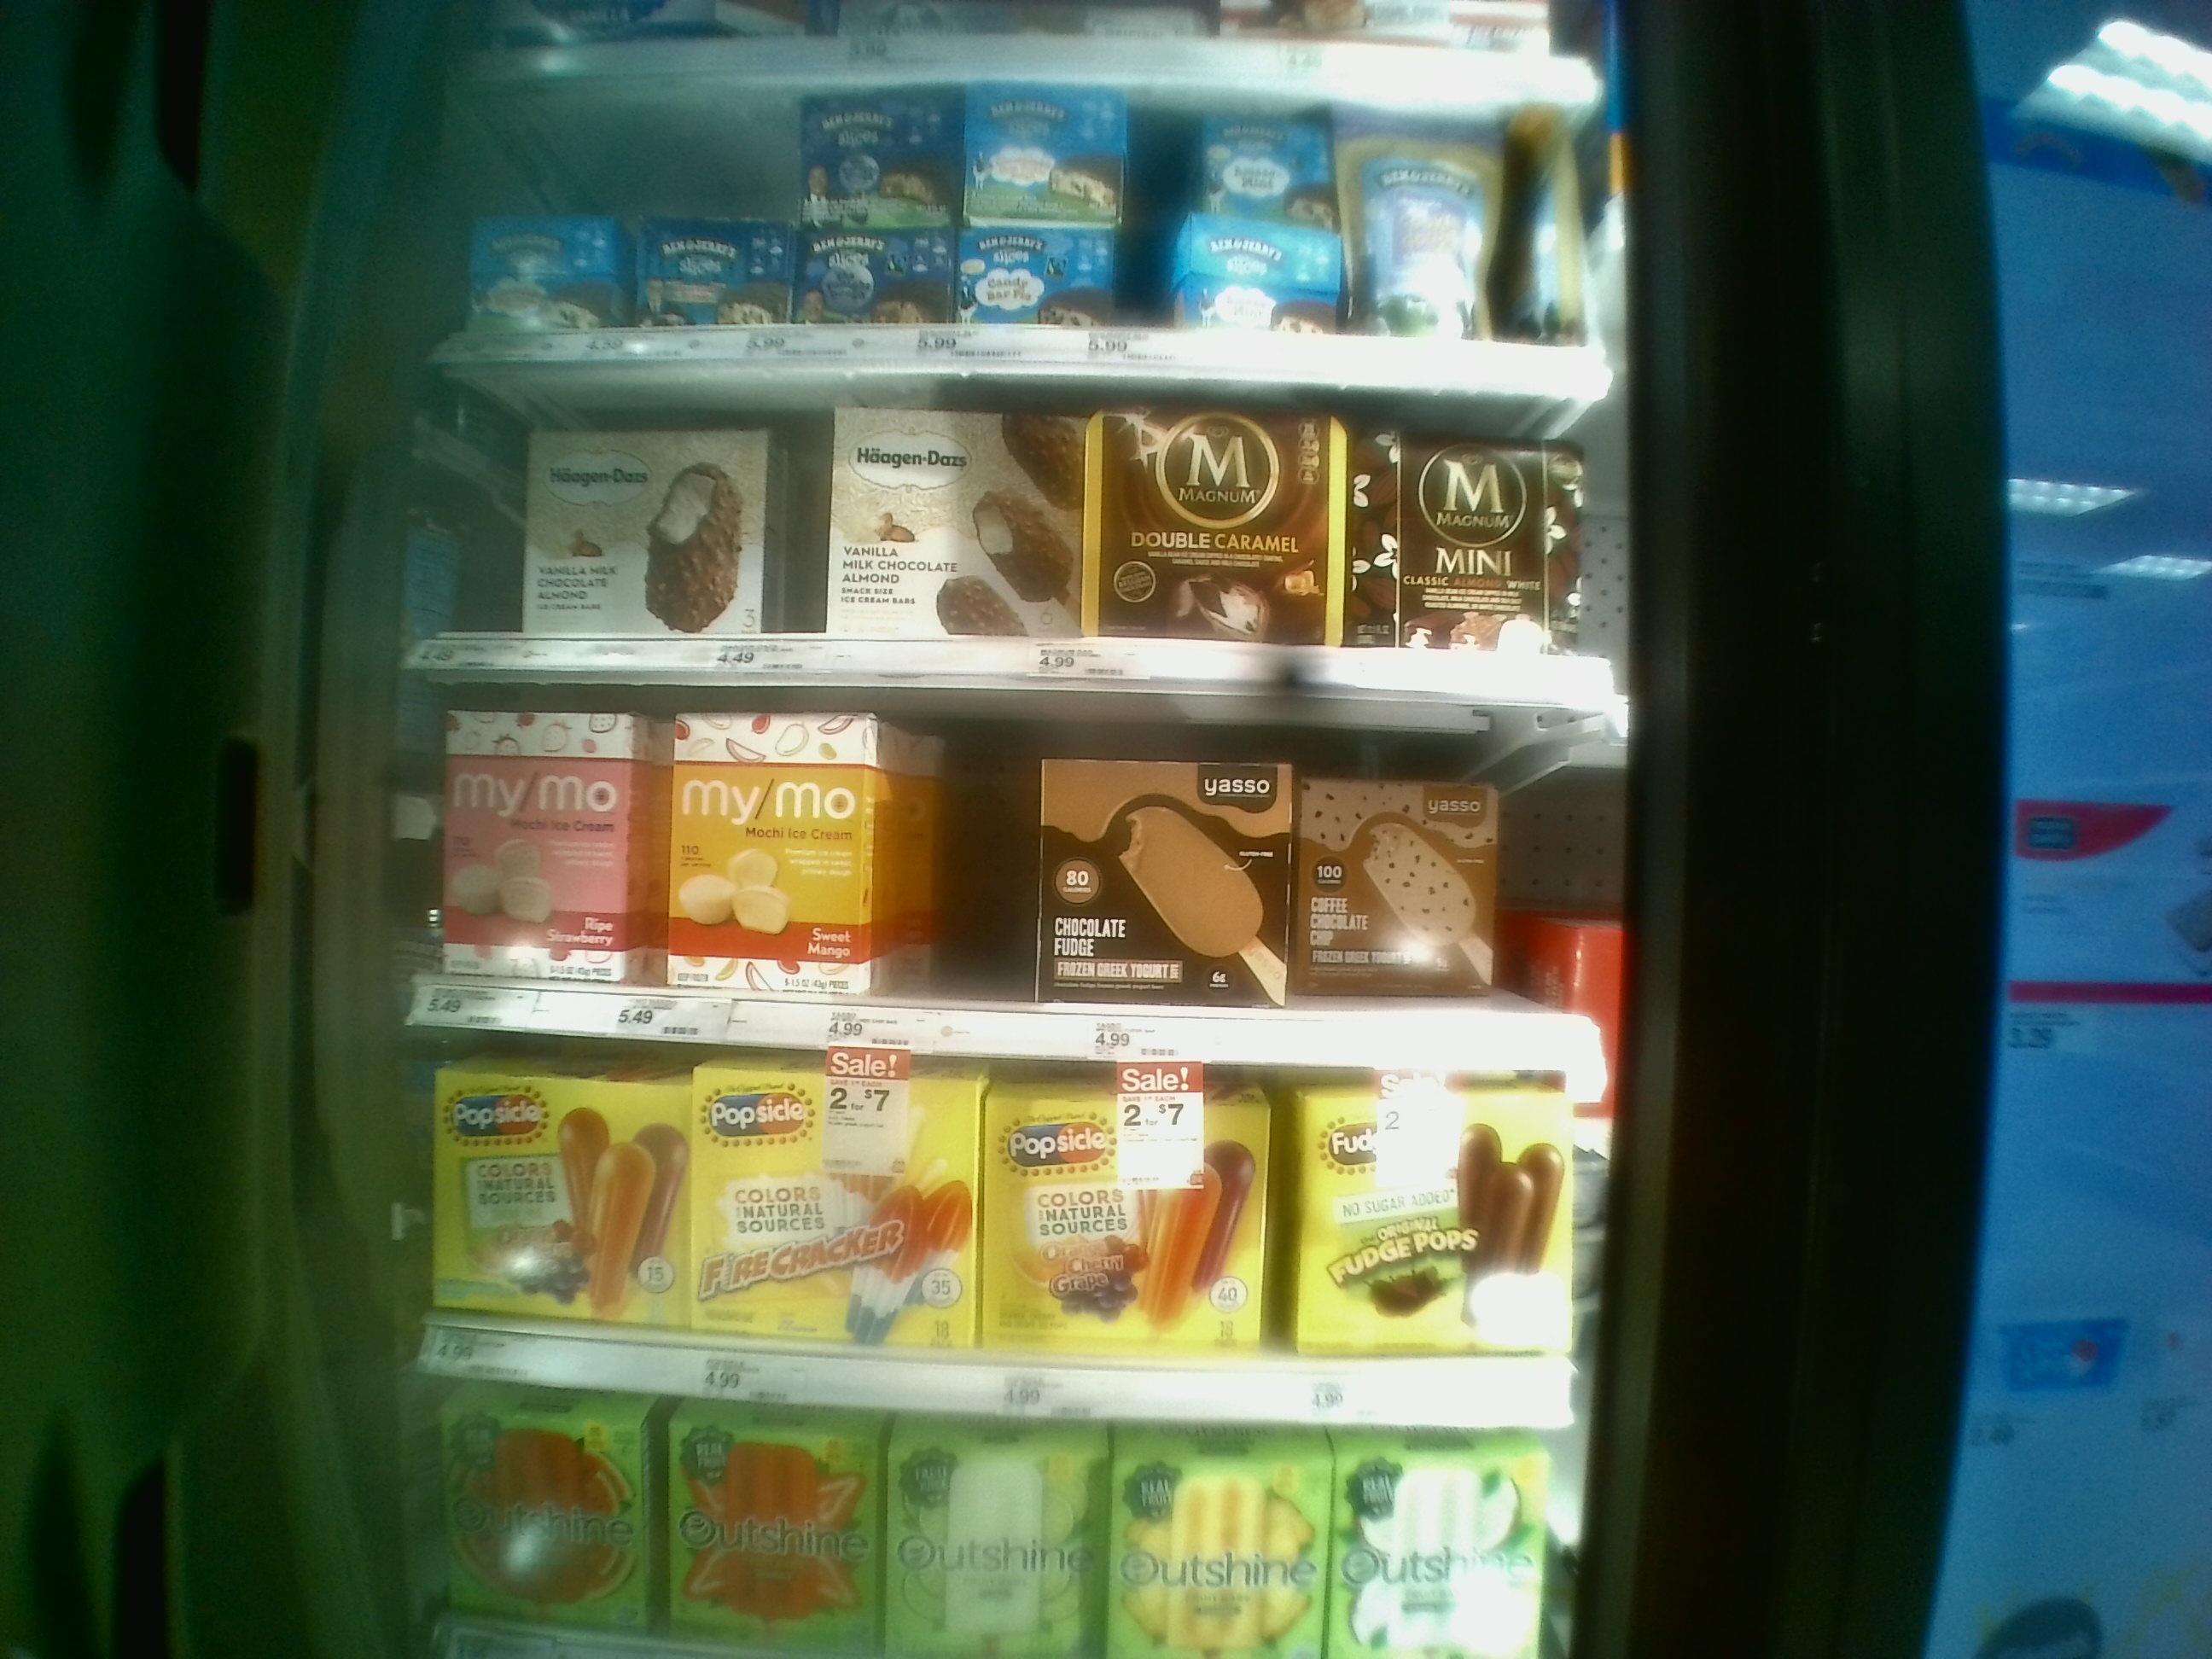ice-cream-shelf: (401, 1037, 1581, 1431), (392, 678, 1618, 1049), (420, 369, 1627, 683)
